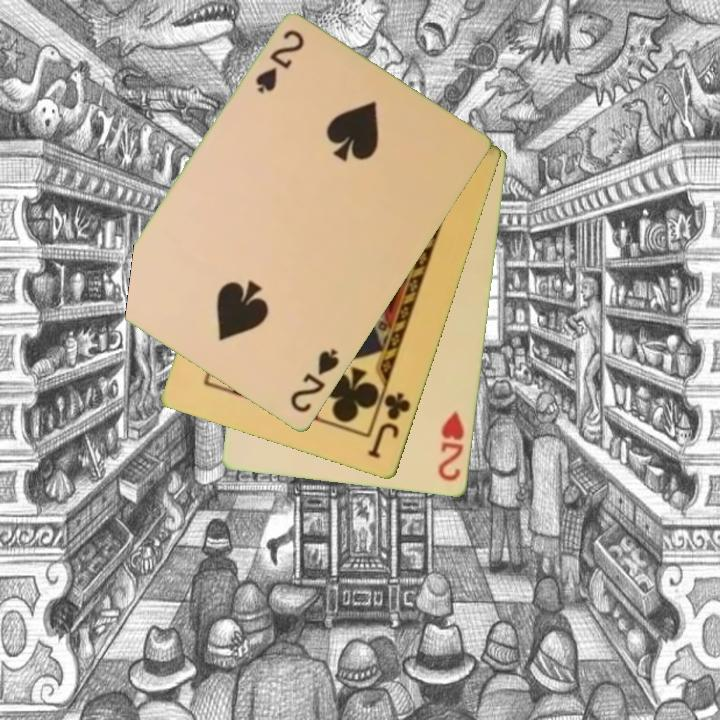2h: (434, 407, 468, 485)
2s: (287, 345, 343, 417), (252, 26, 308, 97)
Jc: (364, 389, 414, 462)
